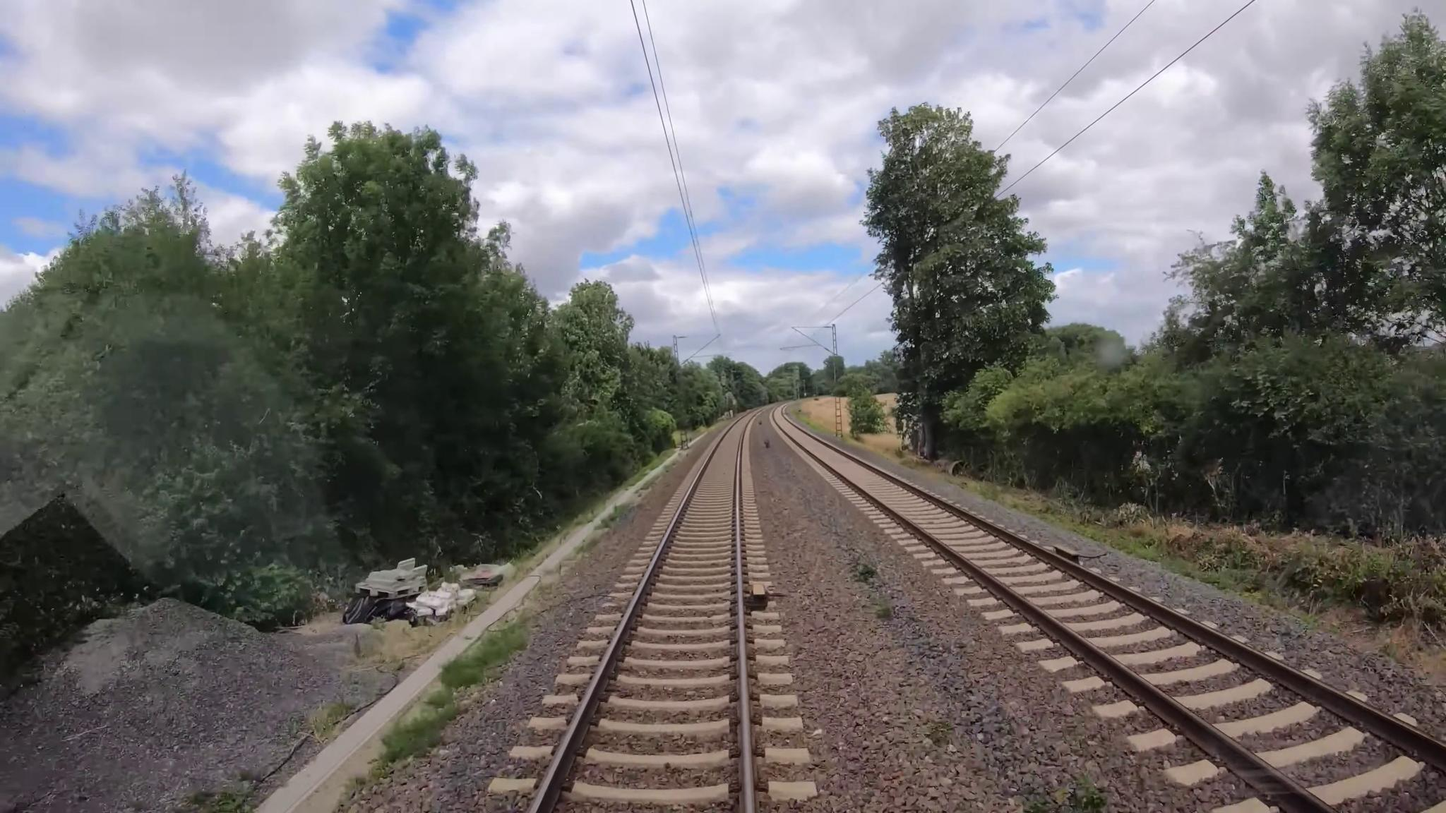Plant: (374, 615, 535, 763), (572, 455, 682, 555), (1014, 778, 1106, 813), (849, 553, 886, 592)
